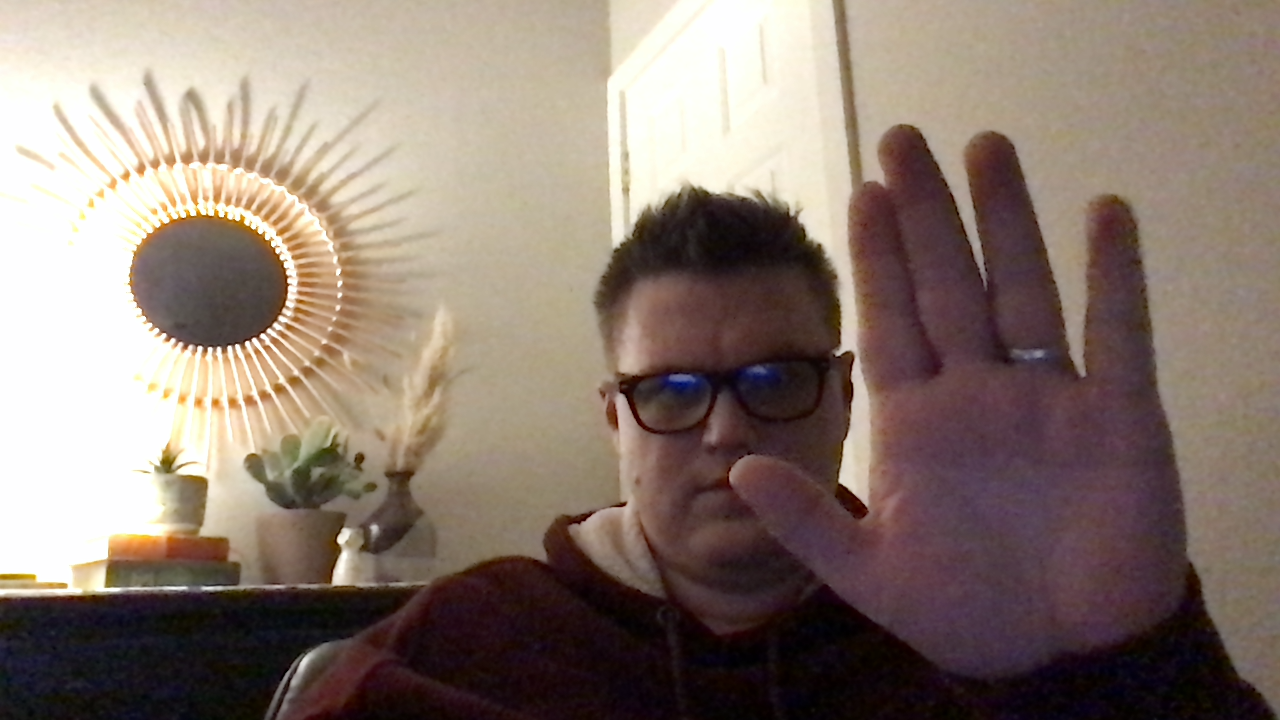hello: (720, 108, 1213, 676)
